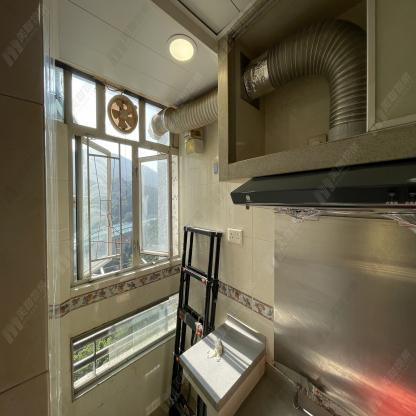Exhaust Fan: (107, 89, 139, 135)
Exhaust Hood: (232, 164, 415, 231)
